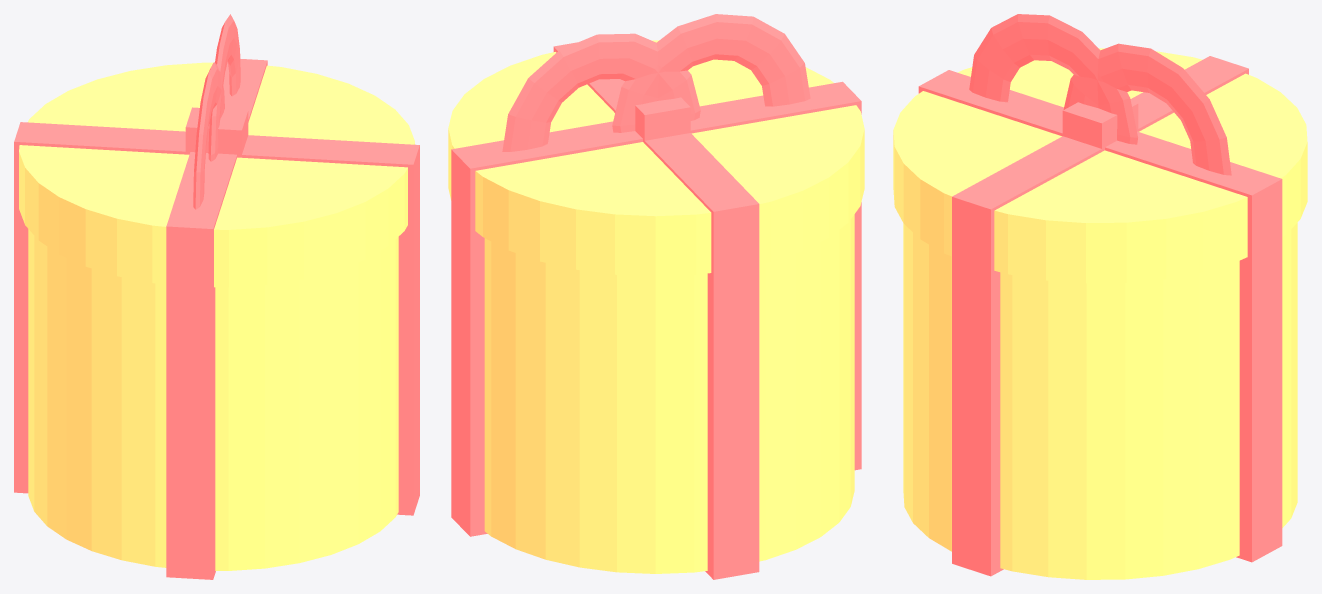
The model's file is Tmpl_Round_Root_196.glb.
3 views of the same model, side by side, from view 1: azimuth 30°, elevation 25°; view 2: azimuth 150°, elevation 25°; view 3: azimuth 270°, elevation 25° (orthographic). The views are drawn at different scales.
Parts seen in each view (by area): view 1: Tmpl_Round_Base.194, Tmpl_Round_Lid.194, Tmpl_Round_Ribbon_X.194, Tmpl_Round_Ribbon_Y.194, Tmpl_Round_BowL.194, Tmpl_Round_BowR.194, Tmpl_Round_BowKnot.194; view 2: Tmpl_Round_Base.194, Tmpl_Round_Lid.194, Tmpl_Round_Ribbon_Y.194, Tmpl_Round_Ribbon_X.194, Tmpl_Round_BowR.194, Tmpl_Round_BowL.194, Tmpl_Round_BowKnot.194; view 3: Tmpl_Round_Base.194, Tmpl_Round_Lid.194, Tmpl_Round_Ribbon_Y.194, Tmpl_Round_Ribbon_X.194, Tmpl_Round_BowR.194, Tmpl_Round_BowL.194, Tmpl_Round_BowKnot.194.
Boxes of the visible parts, bbox=[...] form: Tmpl_Round_Base.194: bbox=[28, 229, 398, 570]; Tmpl_Round_Lid.194: bbox=[19, 62, 414, 287]; Tmpl_Round_Ribbon_X.194: bbox=[166, 59, 267, 579]; Tmpl_Round_Ribbon_Y.194: bbox=[14, 122, 419, 515]; Tmpl_Round_BowL.194: bbox=[208, 14, 240, 161]; Tmpl_Round_BowR.194: bbox=[193, 62, 224, 209]; Tmpl_Round_BowKnot.194: bbox=[185, 107, 248, 157]; Tmpl_Round_Base.194: bbox=[484, 214, 854, 573]; Tmpl_Round_Lid.194: bbox=[448, 40, 864, 276]; Tmpl_Round_Ribbon_Y.194: bbox=[553, 42, 759, 579]; Tmpl_Round_Ribbon_X.194: bbox=[451, 81, 861, 536]; Tmpl_Round_BowR.194: bbox=[612, 14, 810, 132]; Tmpl_Round_BowL.194: bbox=[502, 33, 700, 151]; Tmpl_Round_BowKnot.194: bbox=[635, 97, 690, 143]; Tmpl_Round_Base.194: bbox=[903, 222, 1297, 579]; Tmpl_Round_Lid.194: bbox=[893, 48, 1307, 283]; Tmpl_Round_Ribbon_Y.194: bbox=[952, 56, 1248, 576]; Tmpl_Round_Ribbon_X.194: bbox=[918, 70, 1282, 562]; Tmpl_Round_BowR.194: bbox=[969, 14, 1137, 144]; Tmpl_Round_BowL.194: bbox=[1063, 43, 1231, 175]; Tmpl_Round_BowKnot.194: bbox=[1062, 101, 1138, 151].
Size of the model in its own units: 0.8432 by 1.05 by 0.8432.
